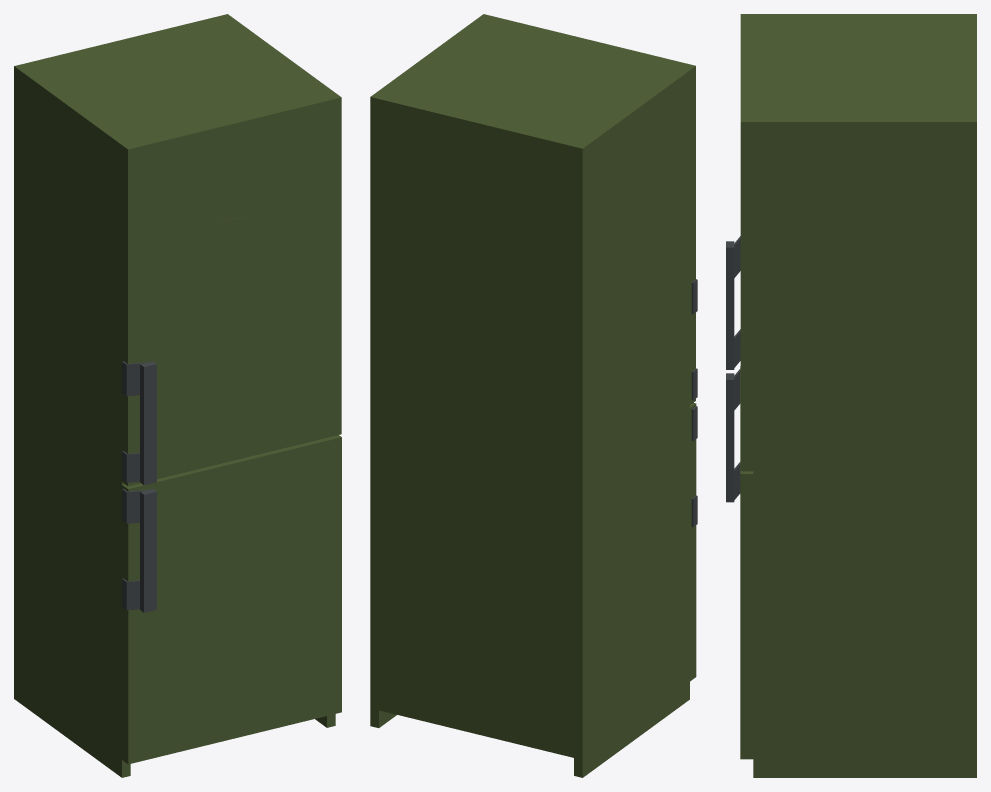
The model's file is refrigeratorwithverticalhandle _01_B.gltf.
3 renders of one model, left to right at view 1: azimuth 30°, elevation 25°; view 2: azimuth 150°, elevation 25°; view 3: azimuth 270°, elevation 25°, orthographic. The views are drawn at different scales.
Visible parts, largest first — view 1: refrigeratorwithverticalhandle _01_B, Doorrefrigeratorwithverticalhandletop _01_B, Doorrefrigeratorwithverticalhandlebot _01_B; view 2: refrigeratorwithverticalhandle _01_B, Doorrefrigeratorwithverticalhandletop _01_B, Doorrefrigeratorwithverticalhandlebot _01_B; view 3: refrigeratorwithverticalhandle _01_B, Doorrefrigeratorwithverticalhandletop _01_B, Doorrefrigeratorwithverticalhandlebot _01_B.
Part boxes in pixels (left/top/right/bottom): refrigeratorwithverticalhandle _01_B: left=14, top=14, right=335, bottom=777; Doorrefrigeratorwithverticalhandletop _01_B: left=122, top=93, right=341, bottom=486; Doorrefrigeratorwithverticalhandlebot _01_B: left=122, top=435, right=341, bottom=764; refrigeratorwithverticalhandle _01_B: left=370, top=18, right=689, bottom=777; Doorrefrigeratorwithverticalhandletop _01_B: left=478, top=14, right=697, bottom=404; Doorrefrigeratorwithverticalhandlebot _01_B: left=690, top=402, right=697, bottom=681; refrigeratorwithverticalhandle _01_B: left=753, top=14, right=976, bottom=777; Doorrefrigeratorwithverticalhandletop _01_B: left=726, top=14, right=753, bottom=471; Doorrefrigeratorwithverticalhandlebot _01_B: left=726, top=366, right=753, bottom=759.
Bounding box in the file's own units: 0.8059 × 2.26 × 0.7847.
1 material, 1 textured.
